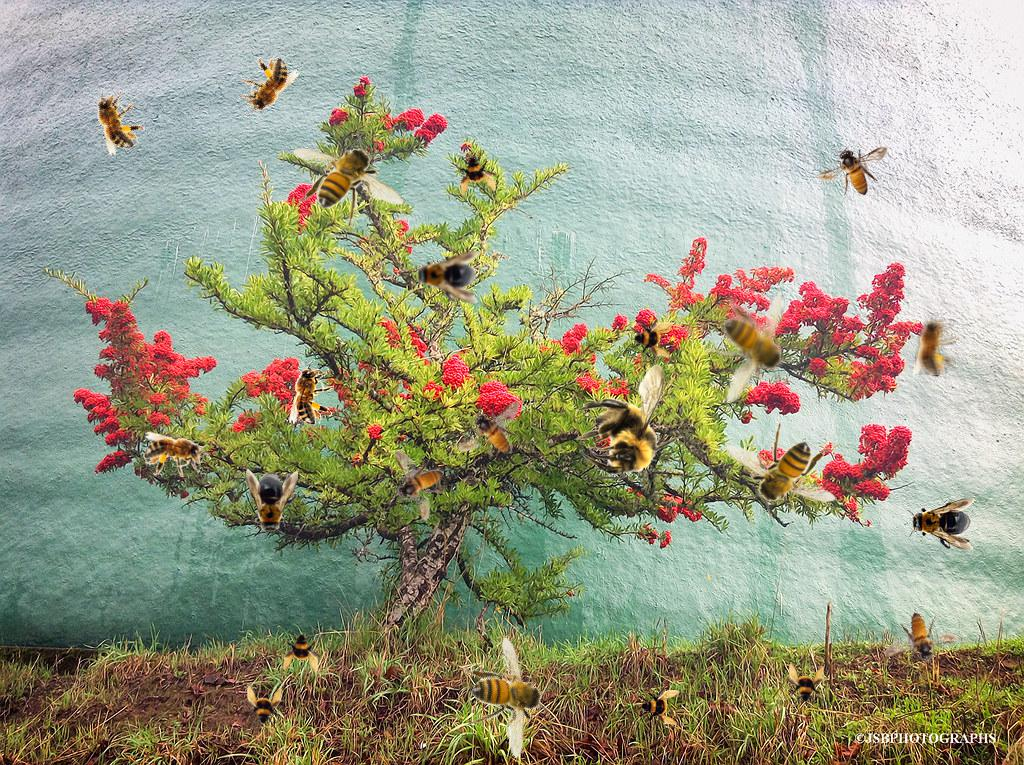Bee: (438, 628, 577, 765), (576, 364, 683, 479), (703, 293, 797, 404), (293, 134, 404, 228), (725, 422, 836, 516), (228, 47, 302, 128), (80, 78, 152, 159), (449, 399, 533, 468), (883, 607, 963, 670), (817, 146, 888, 196), (394, 450, 444, 521), (246, 469, 298, 537), (907, 498, 975, 550), (412, 251, 480, 303), (913, 311, 958, 377), (144, 432, 210, 477), (289, 359, 334, 425), (450, 146, 504, 200), (782, 663, 826, 707), (629, 315, 673, 359), (240, 685, 284, 729), (281, 629, 325, 673), (636, 683, 680, 727)
